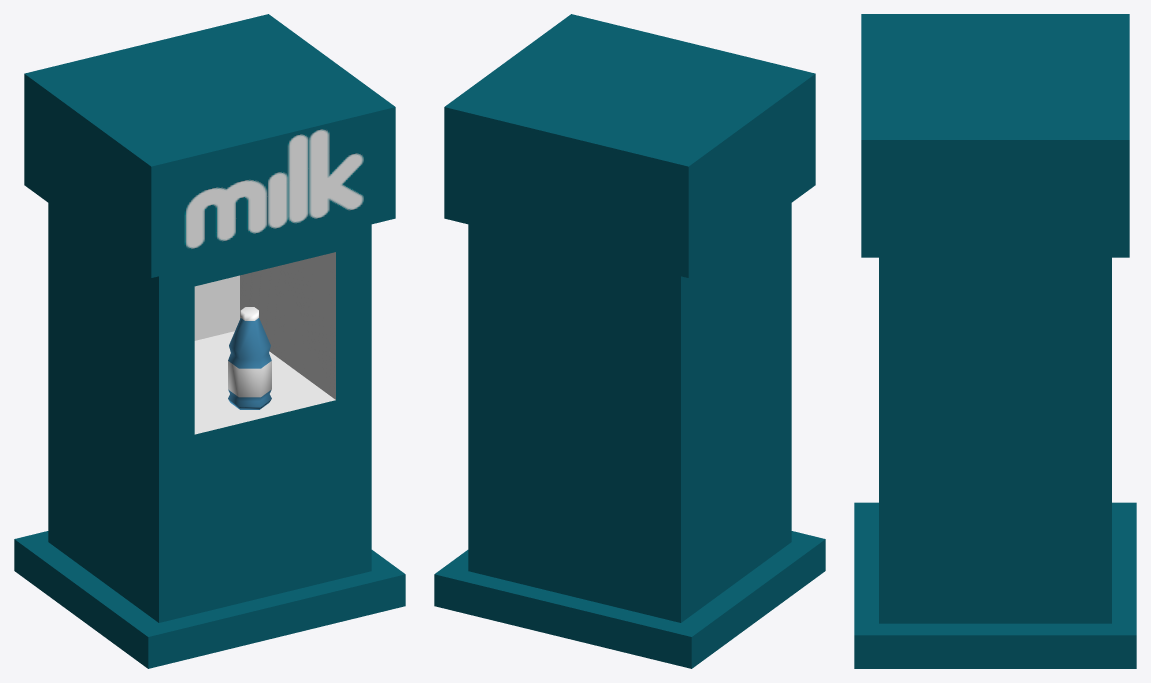
Rendered from Milk.fbx.
The picture shows the model from 3 angles, left to right: view 1: azimuth 30°, elevation 25°; view 2: azimuth 150°, elevation 25°; view 3: azimuth 270°, elevation 25°; orthographic projection. The views are drawn at different scales.
Parts seen in each view (by area): view 1: Milk automaton; view 2: Milk automaton; view 3: Milk automaton.
Part boxes in pixels (x1,y1,x2,y2): Milk automaton: (14,14,405,668); Milk automaton: (434,14,825,668); Milk automaton: (854,14,1136,668).
Bounding box in the file's own units: 419 × 775 × 378.
